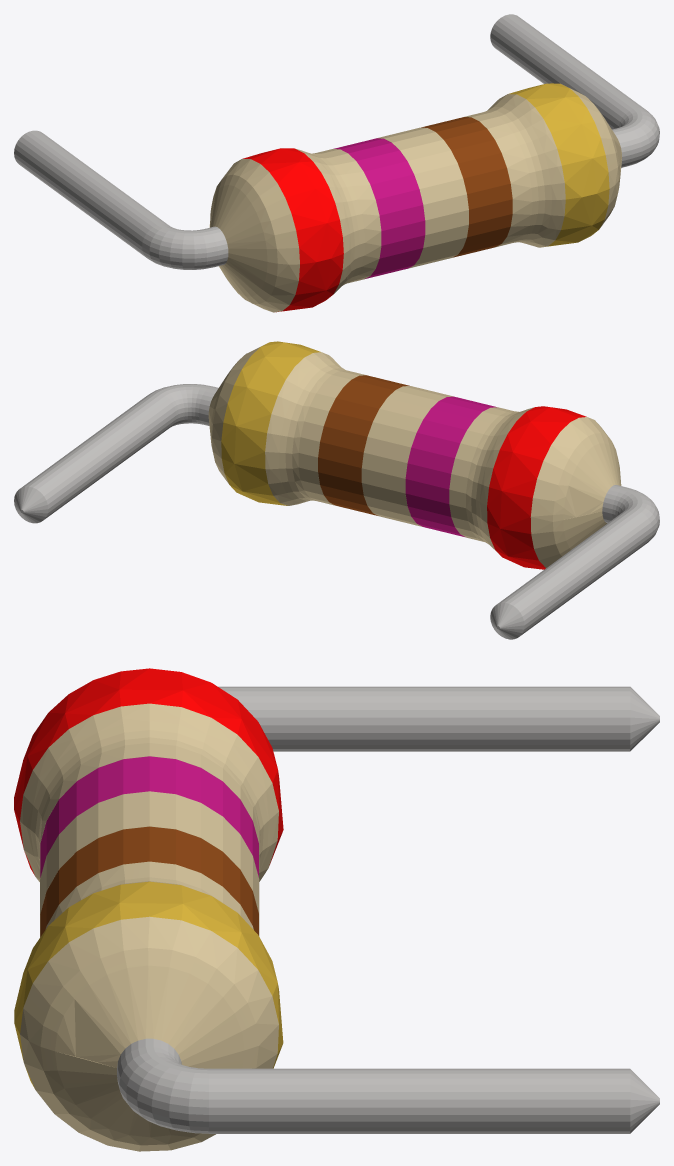
Rendered from Yageo CFR-25 Resistor Axial P7.62mm 270,0 Ohm.obj.
3 views of the same model, one above another, from view 1: azimuth 30°, elevation 25°; view 2: azimuth 150°, elevation 25°; view 3: azimuth 270°, elevation 25° (orthographic). The views are drawn at different scales.
Visible parts, largest first — view 1: Yageo_CFR-25_Resistor_Axial_P7.62mm_270,0_Ohm; view 2: Yageo_CFR-25_Resistor_Axial_P7.62mm_270,0_Ohm; view 3: Yageo_CFR-25_Resistor_Axial_P7.62mm_270,0_Ohm.
Part boxes in pixels (x1,y1,x2,y2): Yageo_CFR-25_Resistor_Axial_P7.62mm_270,0_Ohm: (14,14,659,312); Yageo_CFR-25_Resistor_Axial_P7.62mm_270,0_Ohm: (14,341,659,639); Yageo_CFR-25_Resistor_Axial_P7.62mm_270,0_Ohm: (14,668,659,1151).
Size of the model in its own units: 0.0188 by 0.00519 by 0.0125.
